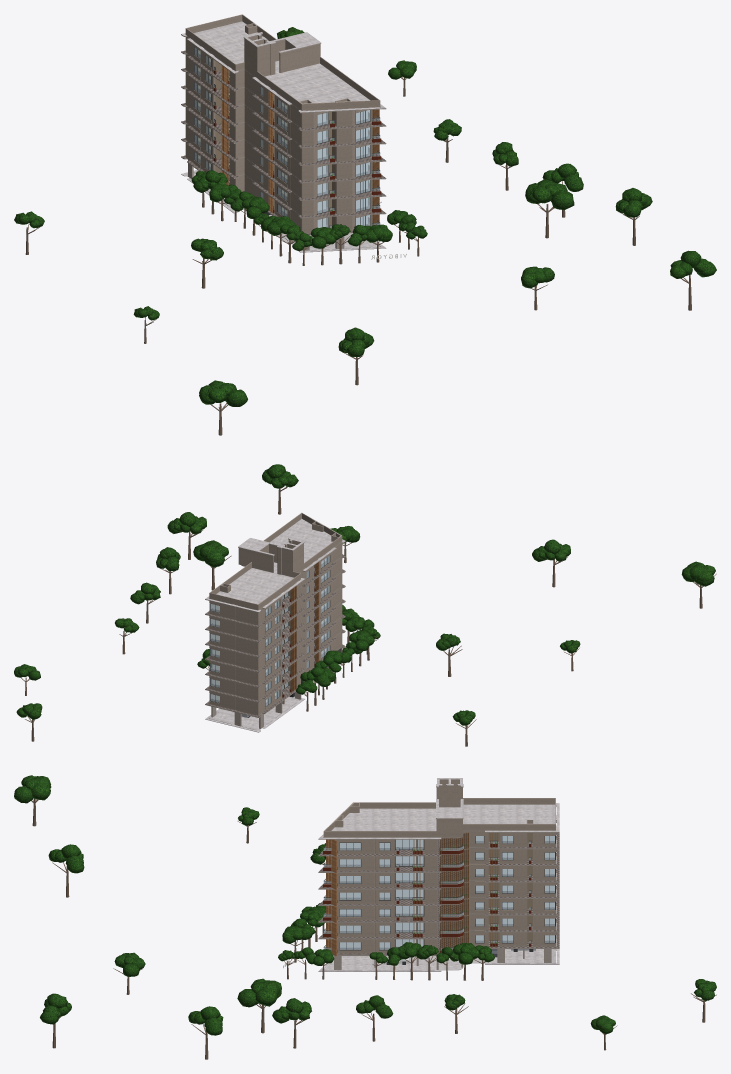
Rendered from vibgyor.glb.
The picture shows the model from 3 angles, top to bottom: view 1: azimuth 30°, elevation 25°; view 2: azimuth 150°, elevation 25°; view 3: azimuth 270°, elevation 25°; orthographic projection. The views are drawn at different scales.
Visible parts, largest first — view 1: Terrace, Floor_4_shell, Floor_6_shell, Floor_2_shell, Floor_3_shell, Floor_7_shell, Floor_5_shell, Floor_1_shell, BgTree_08, BgTree_02, BgTree_13, Stilt (+4 smaller); view 2: Terrace, Floor_4_shell, Floor_3_shell, Floor_6_shell, Floor_5_shell, Floor_7_shell, Floor_2_shell, Floor_1_shell, Stilt, BgTree_08, BgTree_01, BgTree_07 (+4 smaller); view 3: Terrace, Floor_2_shell, Floor_7_shell, Floor_3_shell, Floor_5_shell, Floor_4_shell, Floor_6_shell, Floor_1_shell, Stilt, BgTree_08, BgTree_02, BgTree_01 (+8 smaller).
Part boxes in pixels (box(x1,y1,x2,y2)): Terrace: box(181, 14, 386, 113); Floor_4_shell: box(181, 89, 386, 183); Floor_6_shell: box(181, 54, 386, 148); Floor_2_shell: box(181, 124, 386, 218); Floor_3_shell: box(181, 107, 386, 200); Floor_7_shell: box(181, 37, 386, 130); Floor_5_shell: box(181, 72, 386, 165); Floor_1_shell: box(181, 142, 380, 235); BgTree_08: box(525, 179, 574, 238); BgTree_02: box(199, 380, 247, 435); BgTree_13: box(670, 250, 716, 310); Stilt: box(181, 160, 386, 252); Terrace: box(205, 512, 345, 612); Floor_4_shell: box(205, 588, 345, 672); Floor_3_shell: box(205, 603, 345, 687); Floor_6_shell: box(205, 558, 345, 642); Floor_5_shell: box(205, 573, 345, 657); Floor_7_shell: box(205, 543, 345, 627); Floor_2_shell: box(205, 618, 345, 702); Floor_1_shell: box(205, 633, 345, 717); Stilt: box(205, 648, 342, 732); BgTree_08: box(193, 540, 231, 590); BgTree_01: box(167, 512, 206, 559); BgTree_07: box(532, 539, 570, 587); Terrace: box(318, 778, 559, 839); Floor_2_shell: box(318, 902, 559, 939); Floor_7_shell: box(318, 819, 559, 856); Floor_3_shell: box(318, 886, 559, 922); Floor_5_shell: box(318, 852, 559, 889); Floor_4_shell: box(318, 869, 559, 906); Floor_6_shell: box(318, 836, 559, 872); Floor_1_shell: box(323, 919, 559, 955); Stilt: box(318, 935, 559, 971); BgTree_08: box(237, 978, 281, 1033); BgTree_02: box(14, 775, 51, 826); BgTree_01: box(188, 1006, 223, 1059).
Size of what is drawn, in the model's own units: 99.05 by 30 by 117.
Materials: 19 (9 with a texture image).
